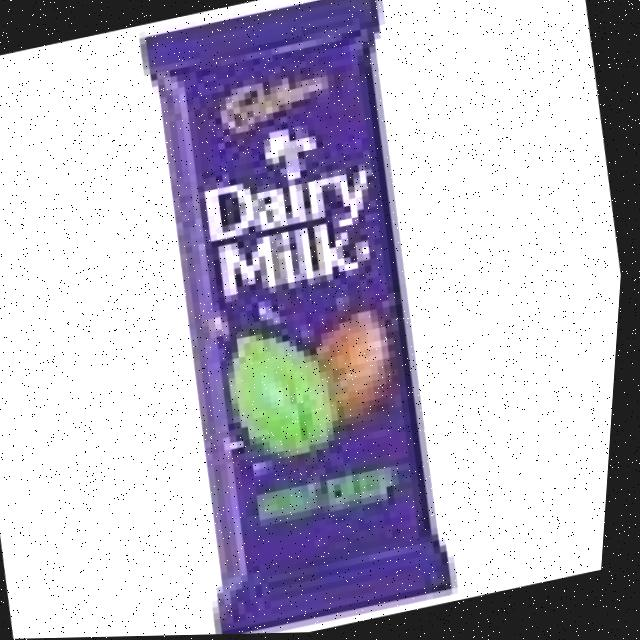cadbury: (106, 0, 499, 638)
